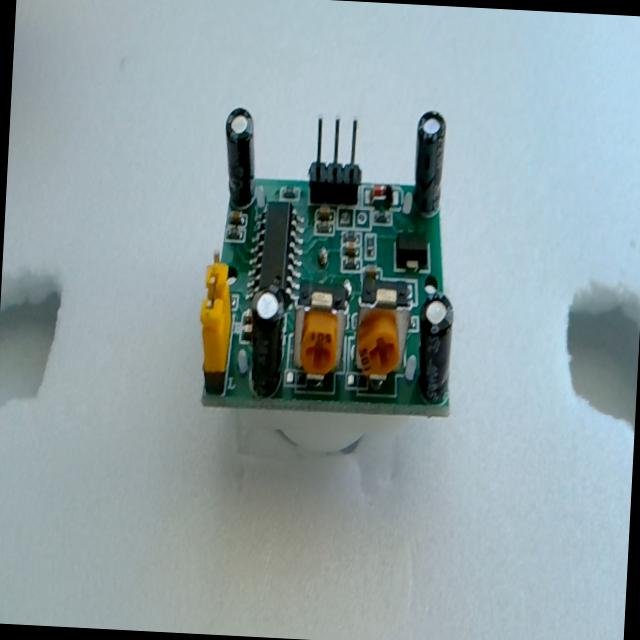Electrolytic capacitor: (415, 290, 456, 405), (246, 286, 288, 398), (221, 106, 260, 212), (412, 110, 448, 218)
IC: (246, 200, 302, 306)
pinheader: (306, 113, 366, 206)
